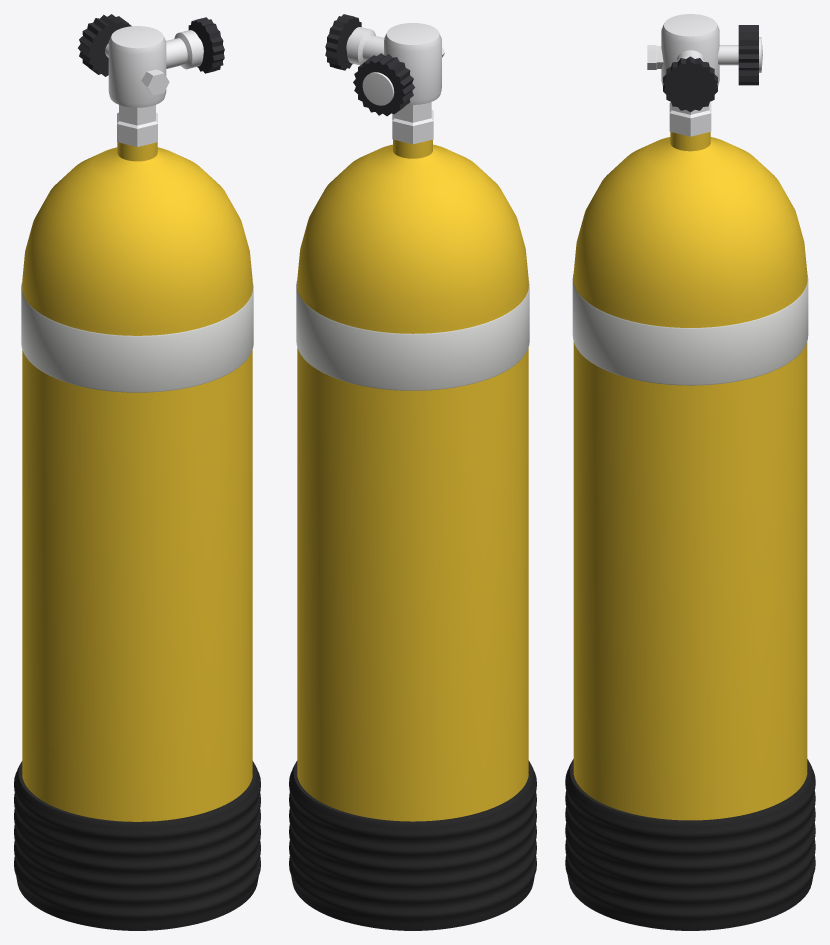
File: SM_ScubaTank.fbx
3 views of the same model, side by side, from view 1: azimuth 30°, elevation 25°; view 2: azimuth 150°, elevation 25°; view 3: azimuth 270°, elevation 25° (orthographic).
Parts seen in each view (by area): view 1: SM_ScubaTank; view 2: SM_ScubaTank; view 3: SM_ScubaTank.
Part boxes in pixels (x1,y1,x2,y2): SM_ScubaTank: (14, 14, 260, 930); SM_ScubaTank: (289, 14, 536, 930); SM_ScubaTank: (565, 14, 815, 930).
Size of the model in its own units: 0.197 by 0.748 by 0.197.
